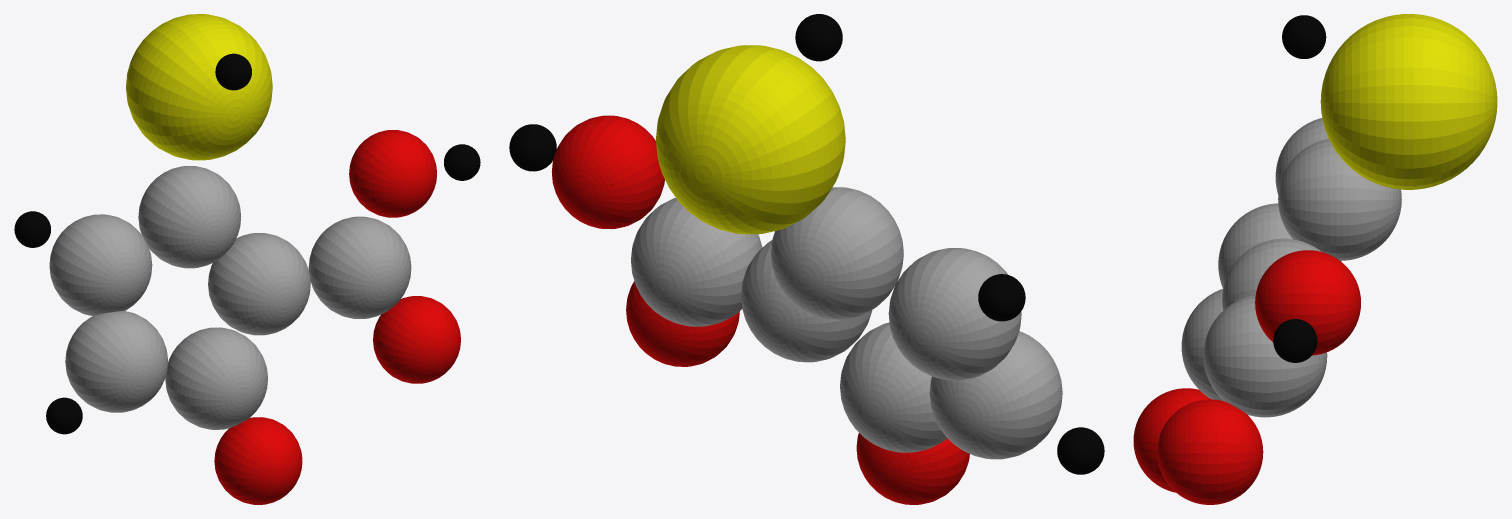
The model's file is Saccharin.glb.
The picture shows the model from 3 angles, left to right: view 1: azimuth 30°, elevation 25°; view 2: azimuth 150°, elevation 25°; view 3: azimuth 270°, elevation 25°; orthographic projection. The views are drawn at different scales.
Visible parts, largest first — view 1: world; view 2: world; view 3: world.
Part boxes in pixels (x1,y1,x2,y2): world: (14,14,480,504); world: (509,14,1104,504); world: (1133,14,1497,504).
Bounding box in the file's own units: 6.96 × 6.07 × 4.12.
